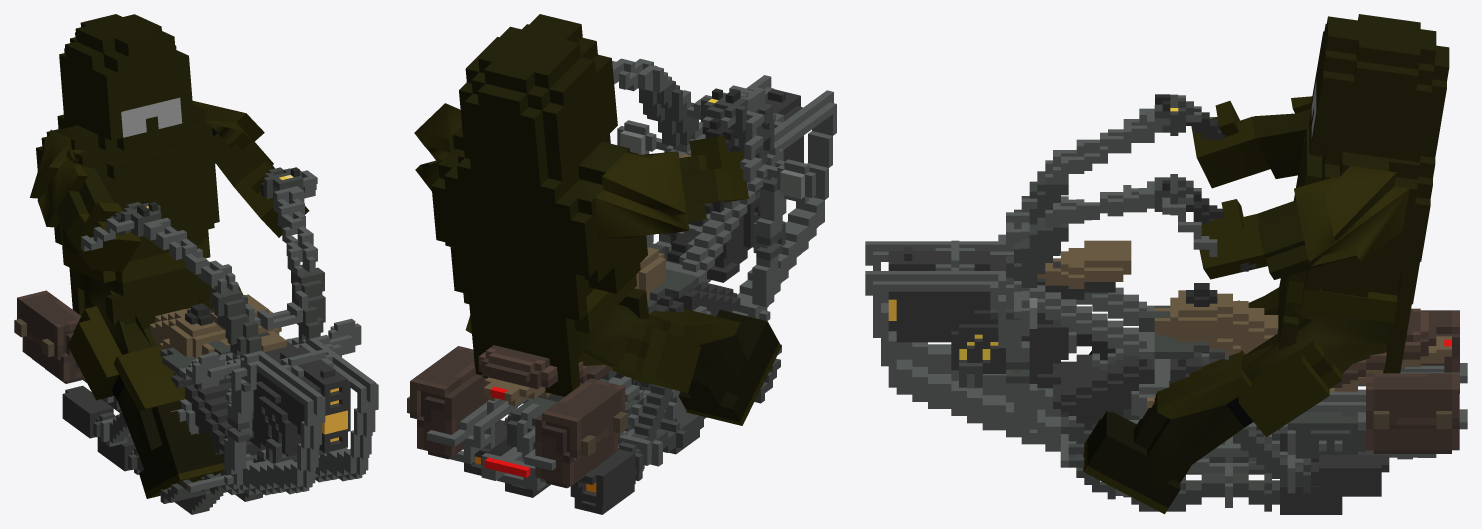
File: OnChopper.obj
The picture shows the model from 3 angles, left to right: view 1: azimuth 30°, elevation 25°; view 2: azimuth 150°, elevation 25°; view 3: azimuth 270°, elevation 25°; orthographic projection. The views are drawn at different scales.
Size of the model in its own units: 3.97 by 6.57 by 7.7.
2 materials, 2 textured.
